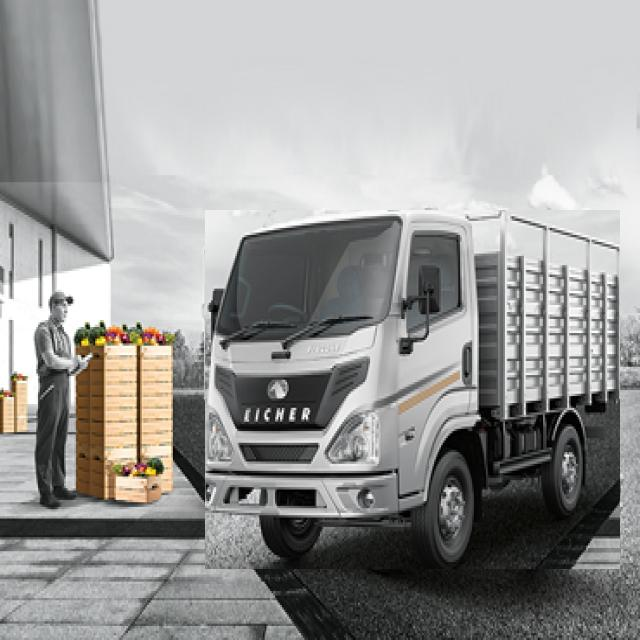truck: (205, 211, 620, 569)
